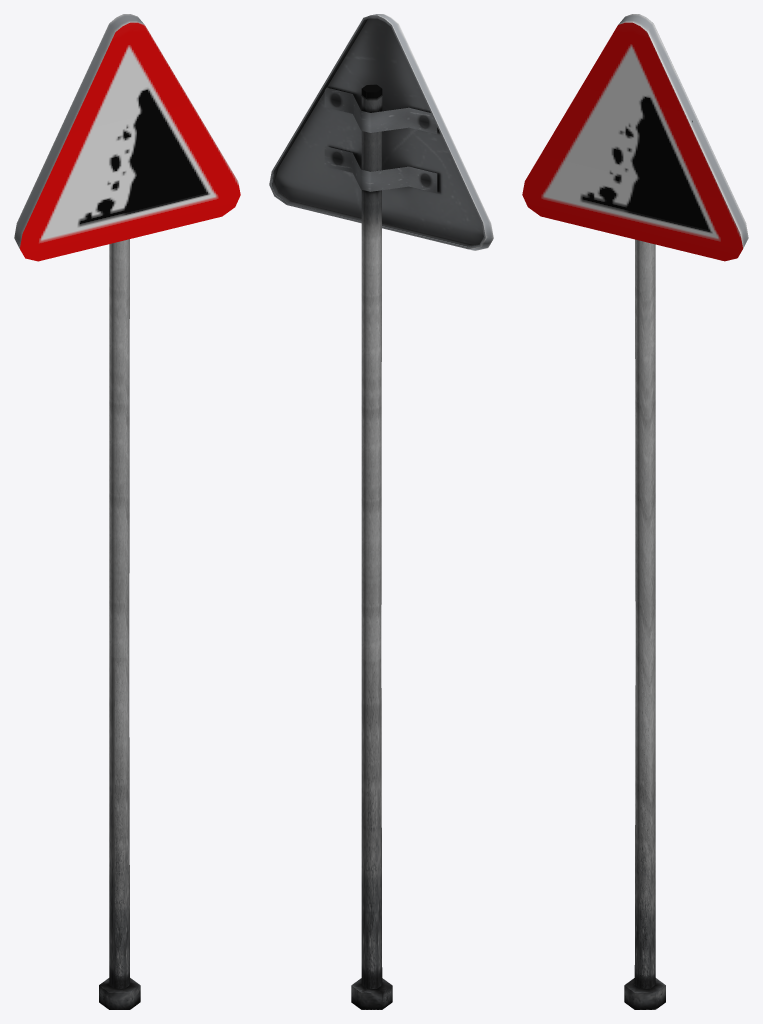
The model's file is ROD0310094.FBX.
3 renders of one model, left to right at view 1: azimuth 30°, elevation 25°; view 2: azimuth 150°, elevation 25°; view 3: azimuth 330°, elevation 25°, orthographic.
Visible parts, largest first — view 1: smROD0310094; view 2: smROD0310094; view 3: smROD0310094.
Boxes of the visible parts, x1=… form: smROD0310094: x1=14, y1=14, x2=240, y2=1009; smROD0310094: x1=269, y1=14, x2=493, y2=1009; smROD0310094: x1=522, y1=14, x2=748, y2=1009.
Size of the model in its own units: 0.7052 by 3.02 by 0.1216.
1 material, 1 textured.
